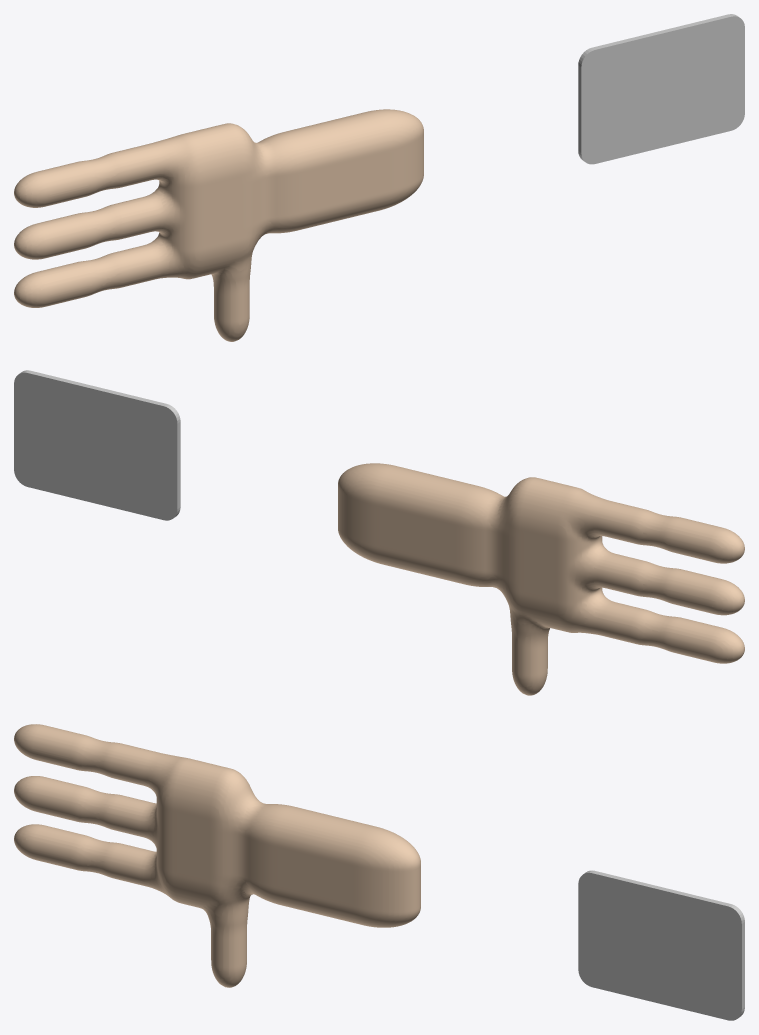
File: hand-idle.glb
3 views of the same model, one above another, from view 1: azimuth 30°, elevation 25°; view 2: azimuth 150°, elevation 25°; view 3: azimuth 330°, elevation 25° (orthographic).
Parts seen in each view (by area): view 1: Mball.009, Card; view 2: Mball.009, Card; view 3: Mball.009, Card.
Boxes of the visible parts, x1,y1,x2,y2 form: Mball.009: (14, 109, 423, 341); Card: (578, 14, 744, 164); Mball.009: (338, 463, 744, 695); Card: (14, 370, 180, 520); Mball.009: (14, 724, 420, 987); Card: (578, 870, 744, 1020).
Size of the model in its own units: 4.39 by 1.25 by 0.2999.
